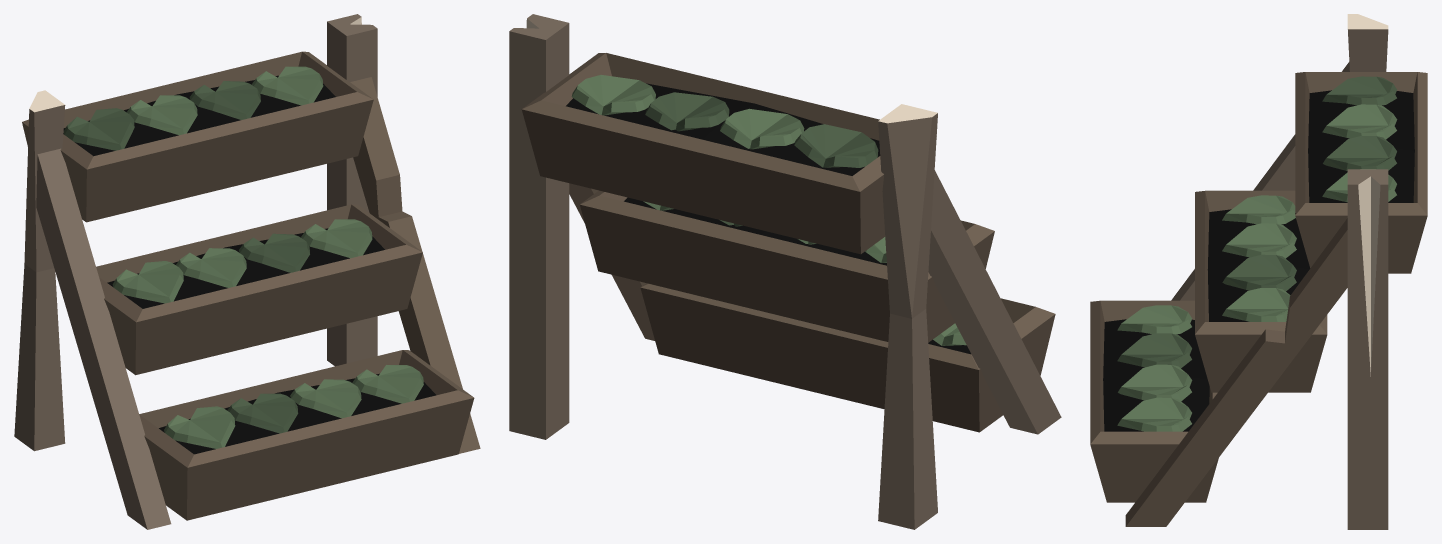
The model's file is _herbalist_counter.fbx.
3 renders of one model, left to right at view 1: azimuth 30°, elevation 25°; view 2: azimuth 150°, elevation 25°; view 3: azimuth 270°, elevation 25°, orthographic. The views are drawn at different scales.
Parts seen in each view (by area): view 1: herbalist_counter; view 2: herbalist_counter; view 3: herbalist_counter.
Boxes of the visible parts, x1,y1,x2,y2 form: herbalist_counter: [14, 14, 480, 529]; herbalist_counter: [509, 14, 1061, 529]; herbalist_counter: [1090, 14, 1427, 529].
Size of the model in its own units: 186 by 175 by 155.
